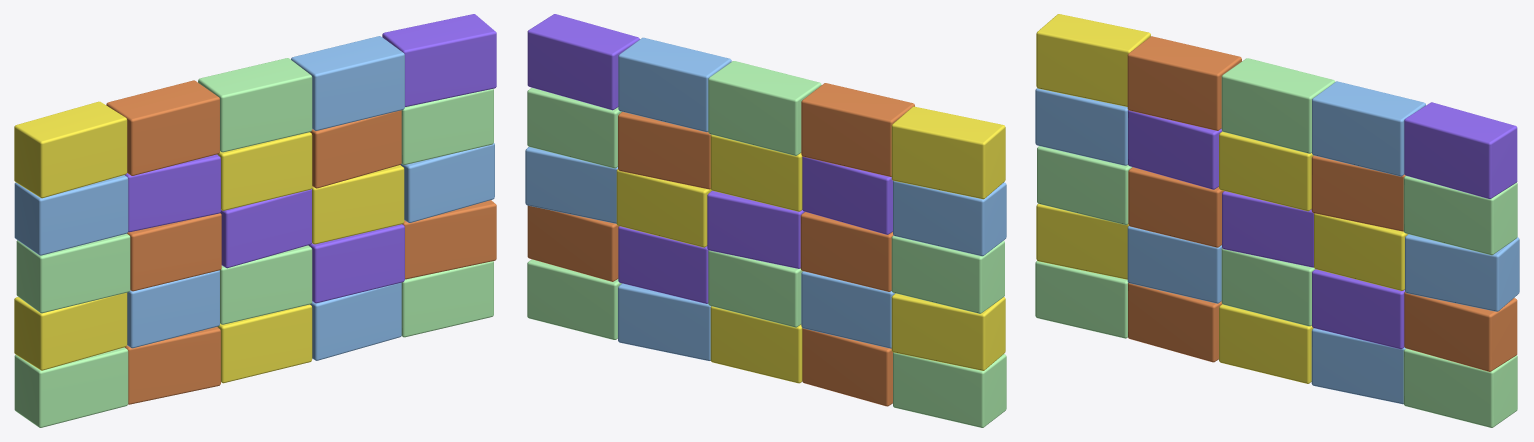
The model's file is Wall.fbx.
The picture shows the model from 3 angles, left to right: view 1: azimuth 30°, elevation 25°; view 2: azimuth 150°, elevation 25°; view 3: azimuth 330°, elevation 25°; orthographic projection.
Visible parts, largest first — view 1: pCube20, pCube23, pCube17, pCube25, pCube19, pCube13, pCube24, pCube4, pCube8, pCube6, pCube10, pCube11 (+13 smaller); view 2: pCube20, pCube23, pCube19, pCube17, pCube25, pCube8, pCube13, pCube4, pCube24, pCube12, pCube2, pCube21 (+13 smaller); view 3: pCube19, pCube25, pCube17, pCube20, pCube23, pCube10, pCube15, pCube5, pCube18, pCube11, pCube6, pCube1 (+13 smaller).
Boxes of the visible parts, box(x1,y1,x2,y2) form: pCube20: box(14, 101, 127, 198); pCube23: box(198, 58, 312, 152); pCube17: box(291, 36, 404, 130); pCube25: box(106, 80, 219, 175); pCube19: box(382, 14, 496, 106); pCube13: box(16, 233, 130, 313); pCube24: box(14, 175, 128, 255); pCube4: box(14, 347, 128, 427); pCube8: box(14, 292, 127, 370); pCube6: box(308, 224, 404, 303); pCube10: box(402, 200, 496, 279); pCube11: box(127, 213, 221, 291); pCube20: box(891, 106, 1005, 199); pCube23: box(708, 61, 821, 155); pCube19: box(527, 14, 639, 110); pCube17: box(618, 37, 731, 132); pCube25: box(801, 83, 914, 176); pCube8: box(891, 293, 1005, 370); pCube13: box(891, 235, 1004, 313); pCube4: box(893, 352, 1006, 427); pCube24: box(893, 180, 1006, 256); pCube12: box(707, 190, 804, 268); pCube2: box(618, 283, 710, 360); pCube21: box(618, 111, 710, 189); pCube19: box(1404, 102, 1517, 198); pCube25: box(1127, 36, 1241, 130); pCube17: box(1312, 81, 1425, 176); pCube20: box(1036, 14, 1150, 106); pCube23: box(1221, 58, 1335, 153); pCube10: box(1404, 292, 1517, 371); pCube15: box(1405, 234, 1519, 311); pCube5: box(1403, 348, 1517, 427); pCube18: box(1403, 176, 1517, 255); pCube11: box(1128, 167, 1223, 247); pCube6: box(1312, 269, 1404, 349); pCube1: box(1219, 304, 1313, 383).
Size of the model in its own units: 10.59 by 6.31 by 1.18.
